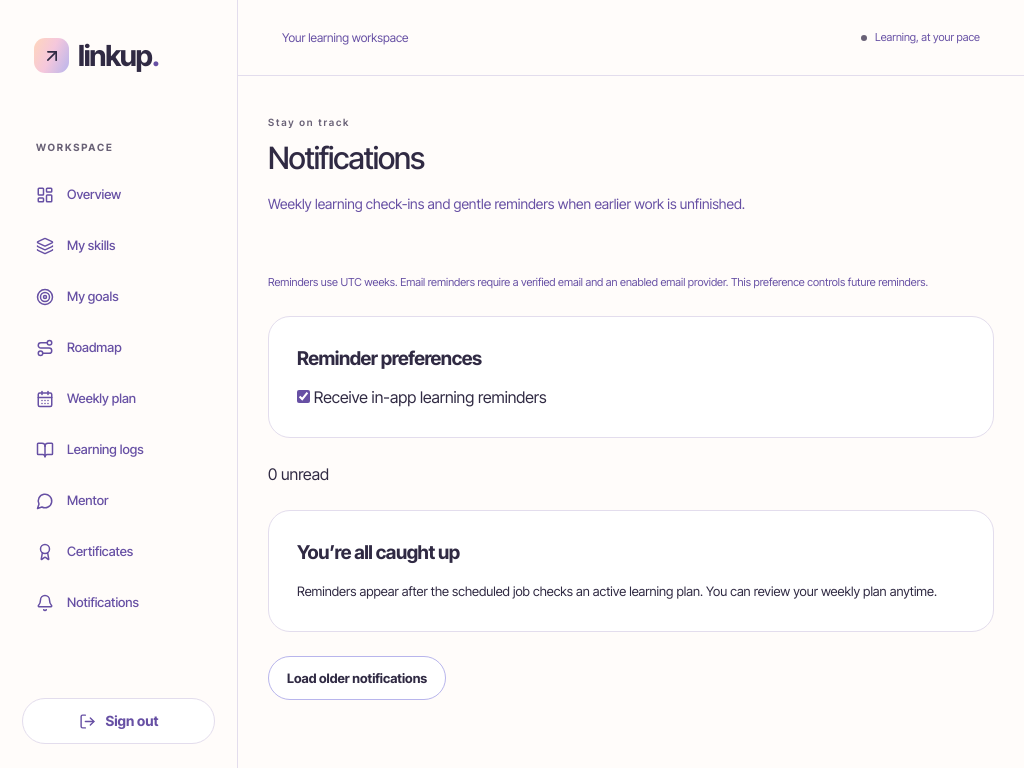
notification inbox › shows the empty inbox and supports fetching older pages
This screenshot has width=1024, height=768.
Expected: the heading "You’re all caught up" is shown, 297,541 -> 460,564
What coordinates should you click on to do the following:
click the button "Load older notifications"
I would click on:
 (357, 678)
Its box is 268,656 -> 446,700.
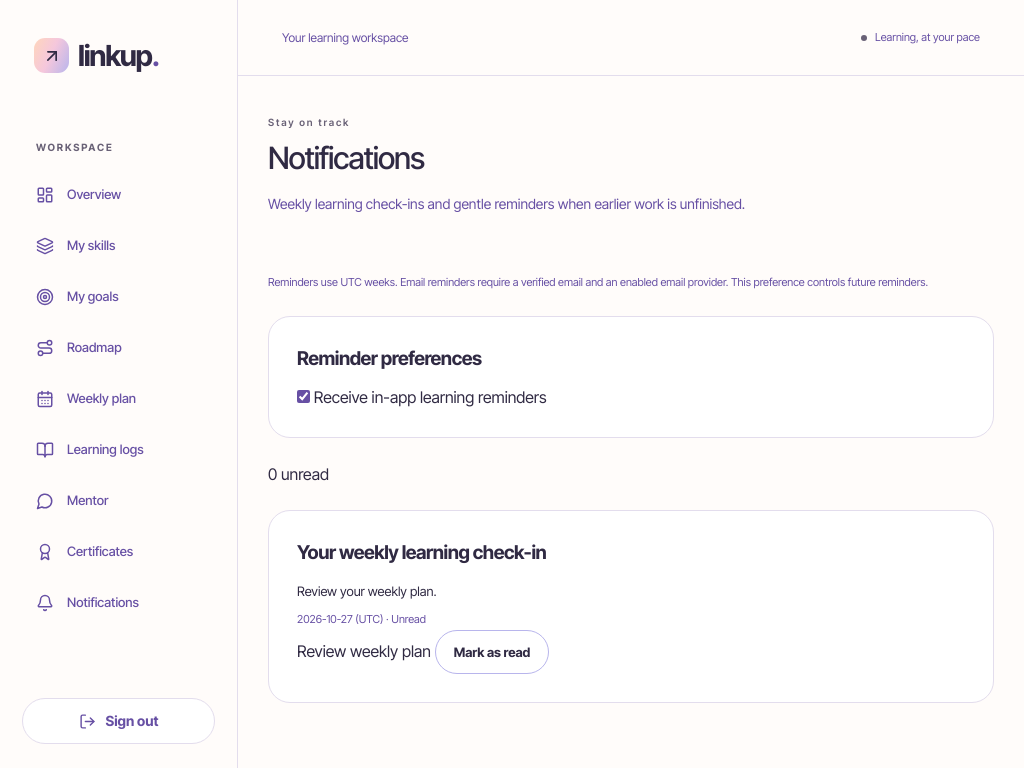
Now the heading "Your weekly learning check-in" is shown, box 297,541 -> 546,564
